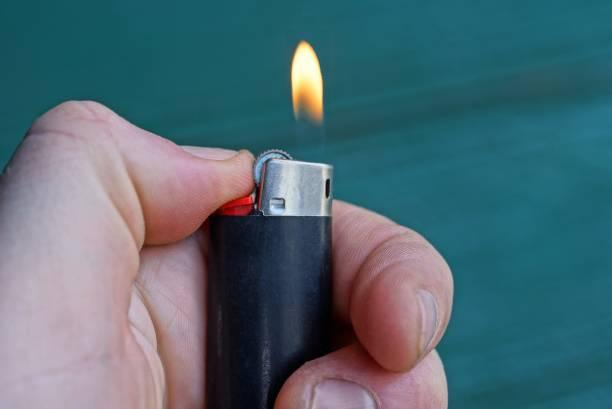Fire: (290, 37, 331, 161)
